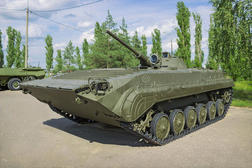bmp: (24, 30, 231, 141)
